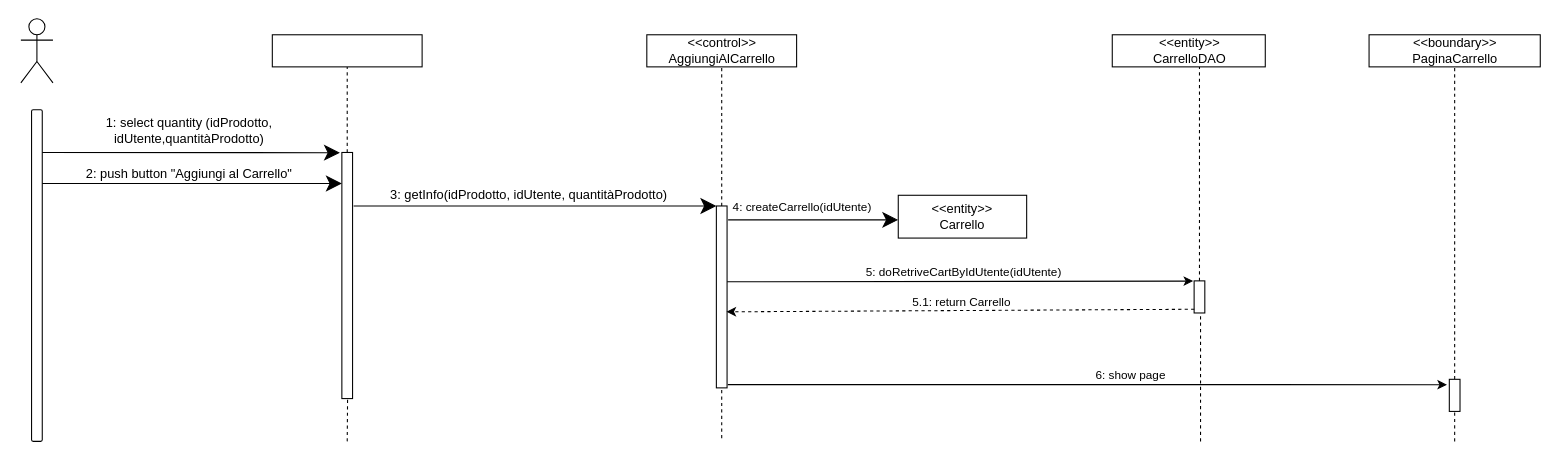
Some shapes in this 1559 by 461 pixel diagram are drawn without their labels. Here are the shapes that lost their labels. From the top down, the centre of each, then its label:
At pixel 36 50: "Utente".
At pixel 346 50: "<<boundary>> PulsanteAggiungiAlCarrello".
